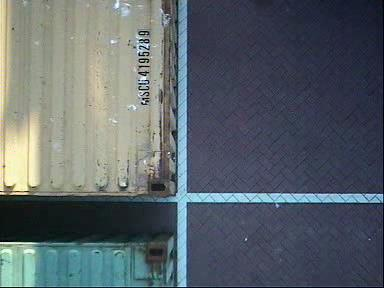groundmarker_2: (23, 164, 95, 251)
